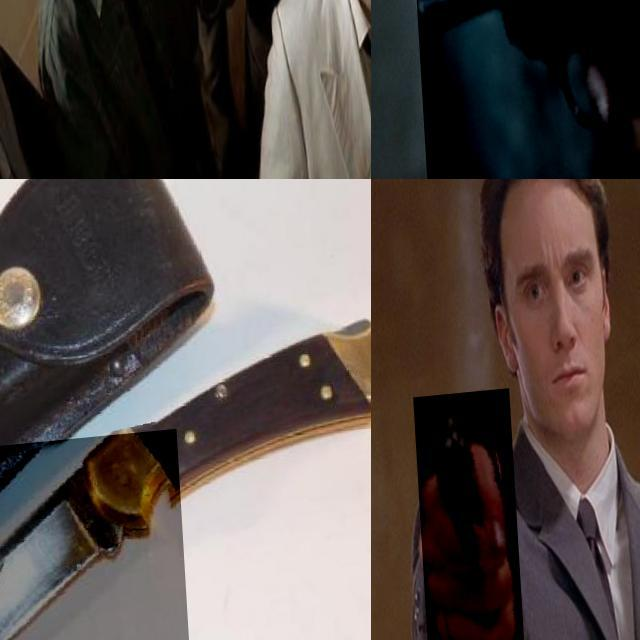-: (0, 436, 182, 640)
gun-knife-thesis - v11 Yolov5 augmented: (407, 0, 640, 179), (408, 395, 517, 640), (148, 0, 236, 102)
